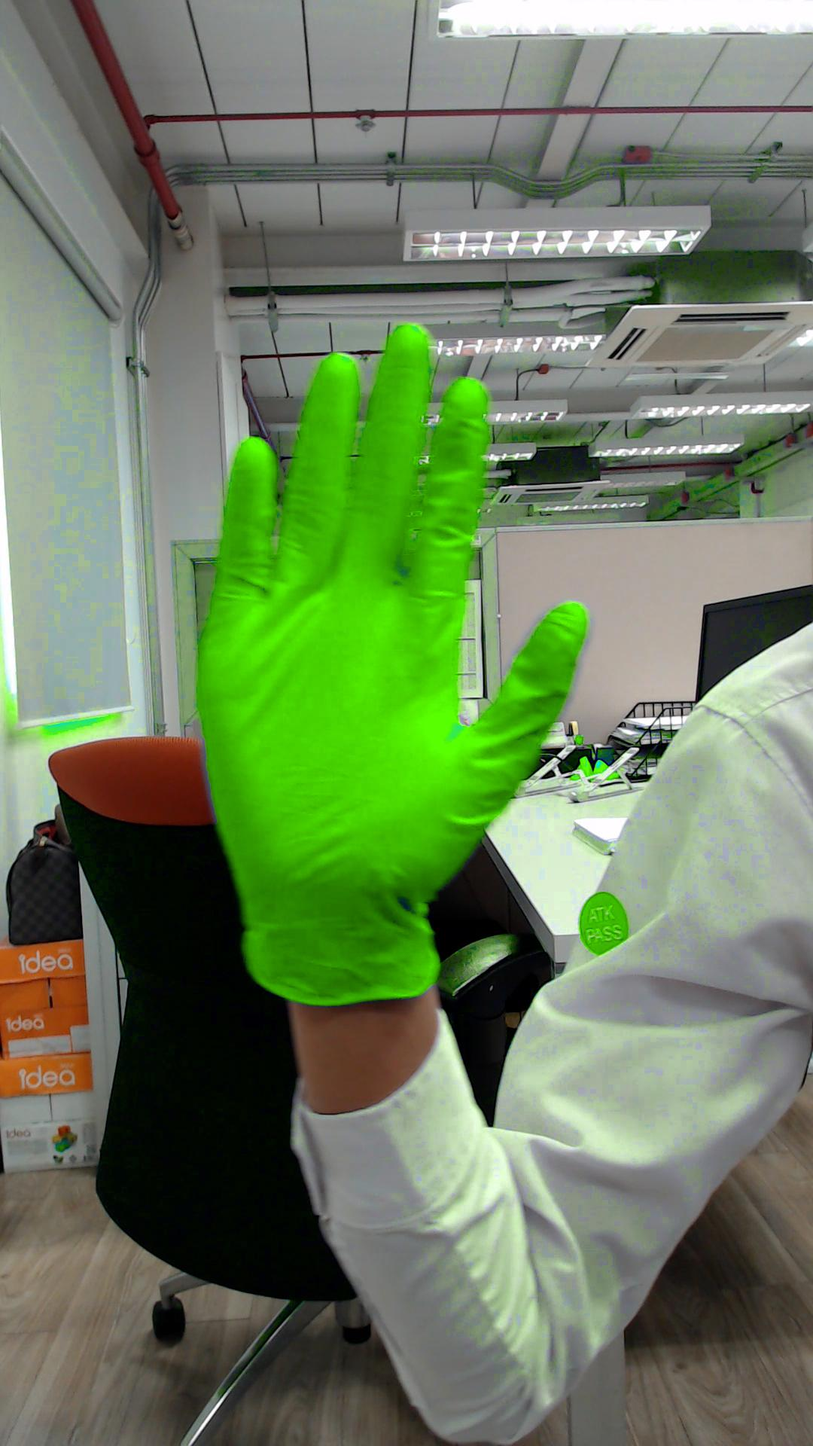gloves: (186, 316, 607, 900)
